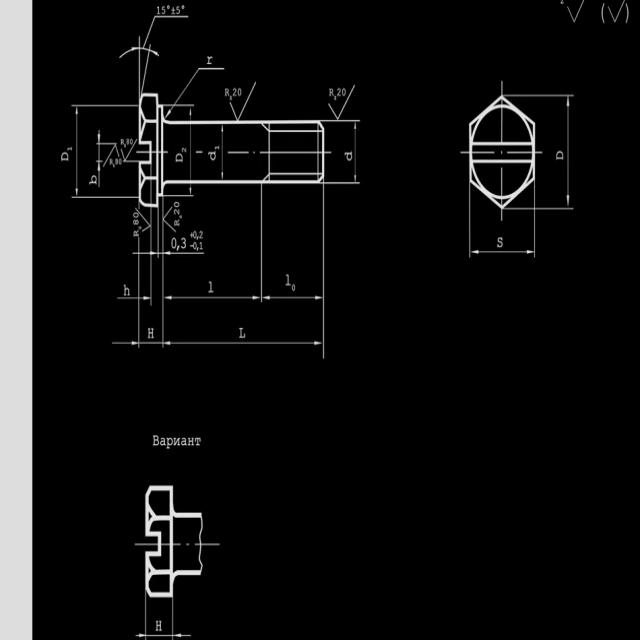marking_line: (117, 42, 162, 92), (164, 78, 204, 120), (164, 293, 259, 303), (71, 108, 81, 196), (162, 341, 321, 346), (470, 245, 534, 256), (566, 95, 572, 208), (134, 631, 191, 640), (263, 293, 322, 301), (219, 123, 227, 180), (188, 108, 193, 195), (353, 122, 359, 181), (166, 251, 208, 258), (95, 160, 104, 186), (112, 339, 138, 347), (108, 146, 122, 158), (116, 296, 150, 300), (131, 251, 156, 256), (96, 128, 101, 140)
numeric: (155, 2, 188, 15), (170, 238, 190, 251), (129, 210, 140, 227), (172, 200, 183, 216), (231, 84, 242, 98), (336, 87, 348, 98), (108, 158, 123, 166), (126, 138, 135, 145)
